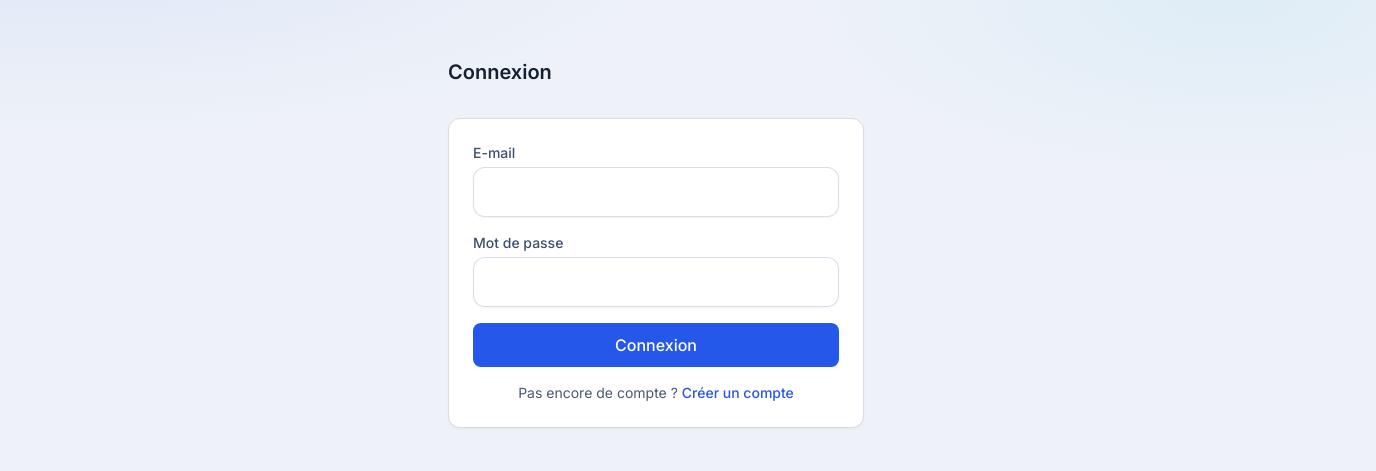
Test: LoginPage › shows login errors in French when locale is fr
Expected: the heading "Connexion" is shown, [448,60,552,84]
Type "user@test.dev" into the field labelled "E-mail" at [656, 192], box [473,167,839,217]
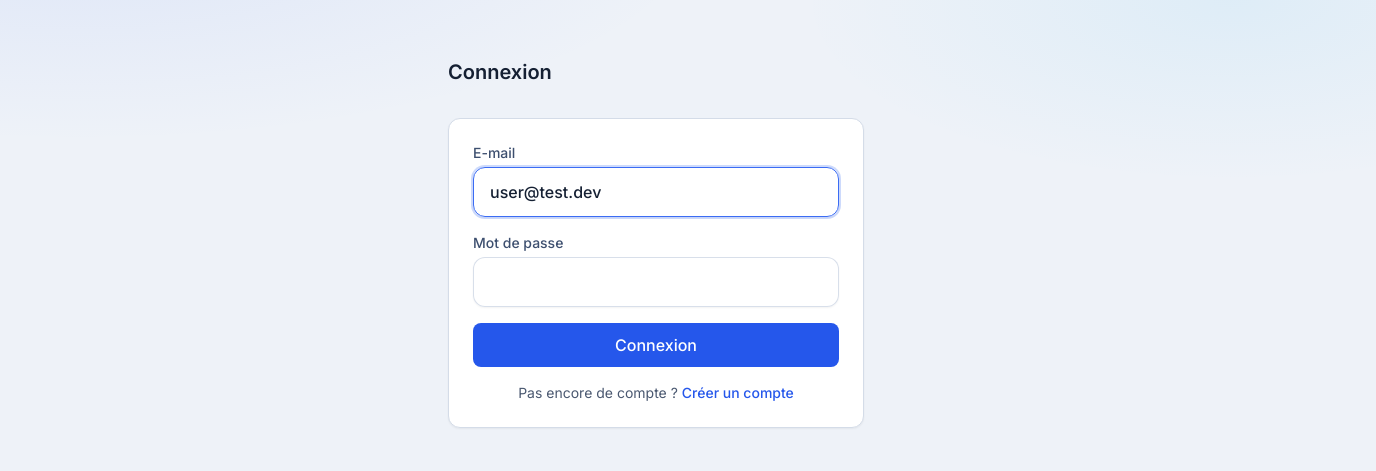
Type "wrong" into the password field labelled "Mot de passe" at [656, 282], box [473,257,839,307]
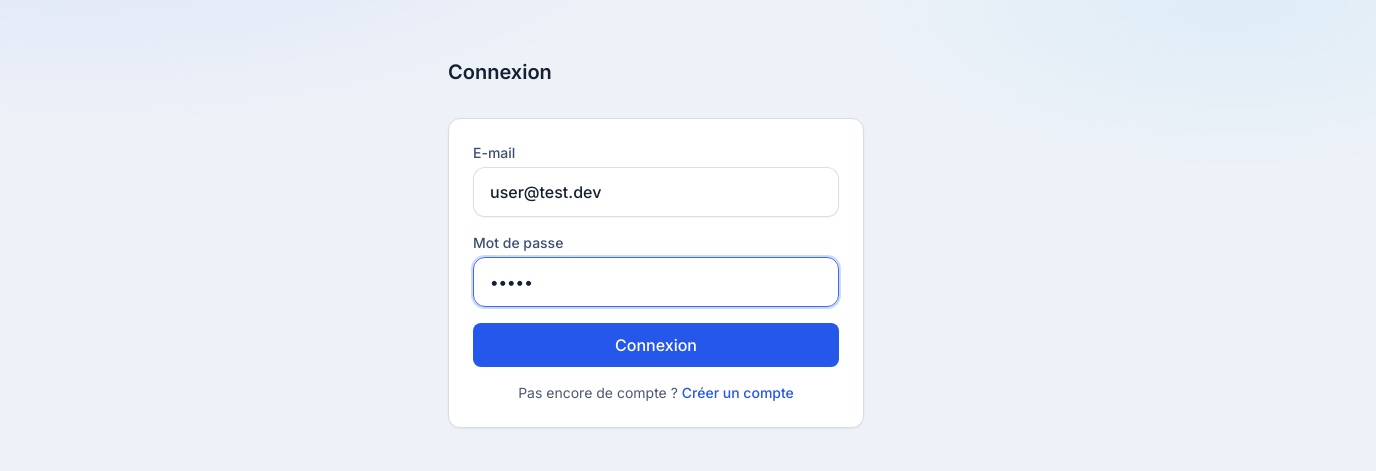
Click the button "Connexion" at [656, 345], box [473,323,839,367]
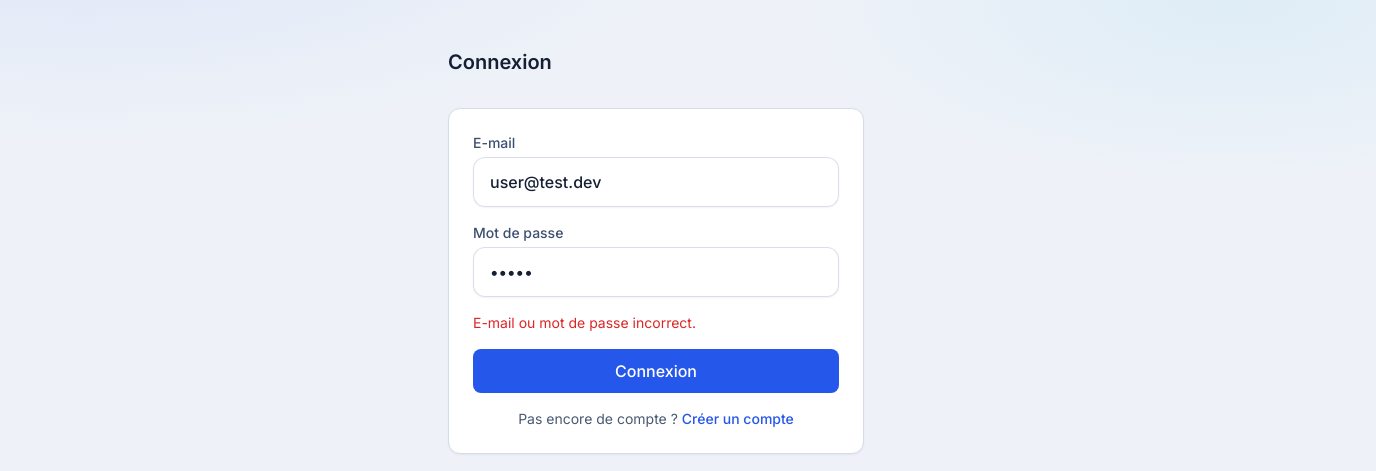
Expected: the text "E-mail ou mot de passe incorrect." is shown, [473,314,696,331]
